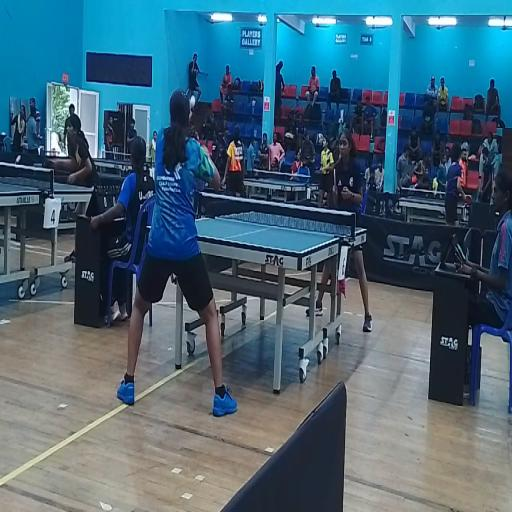ball: (189, 98, 199, 112)
